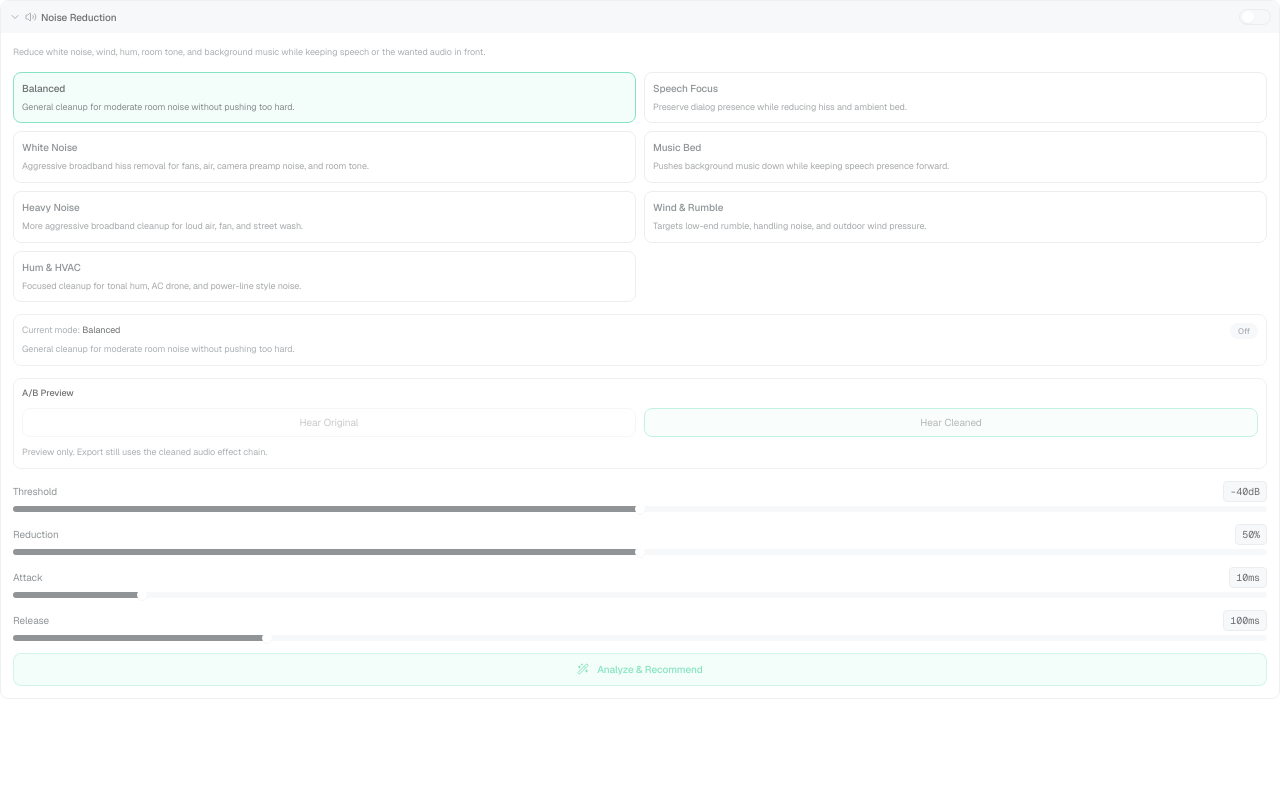
Test case: NoiseReductionSection persistence › shows an explicit apply action before saving analyzed recommendations
What coordinates should you click on to do the following:
click the button "Analyze & Recommend"
I would click on:
 (640, 669)
Its box is [13,653,1267,686].
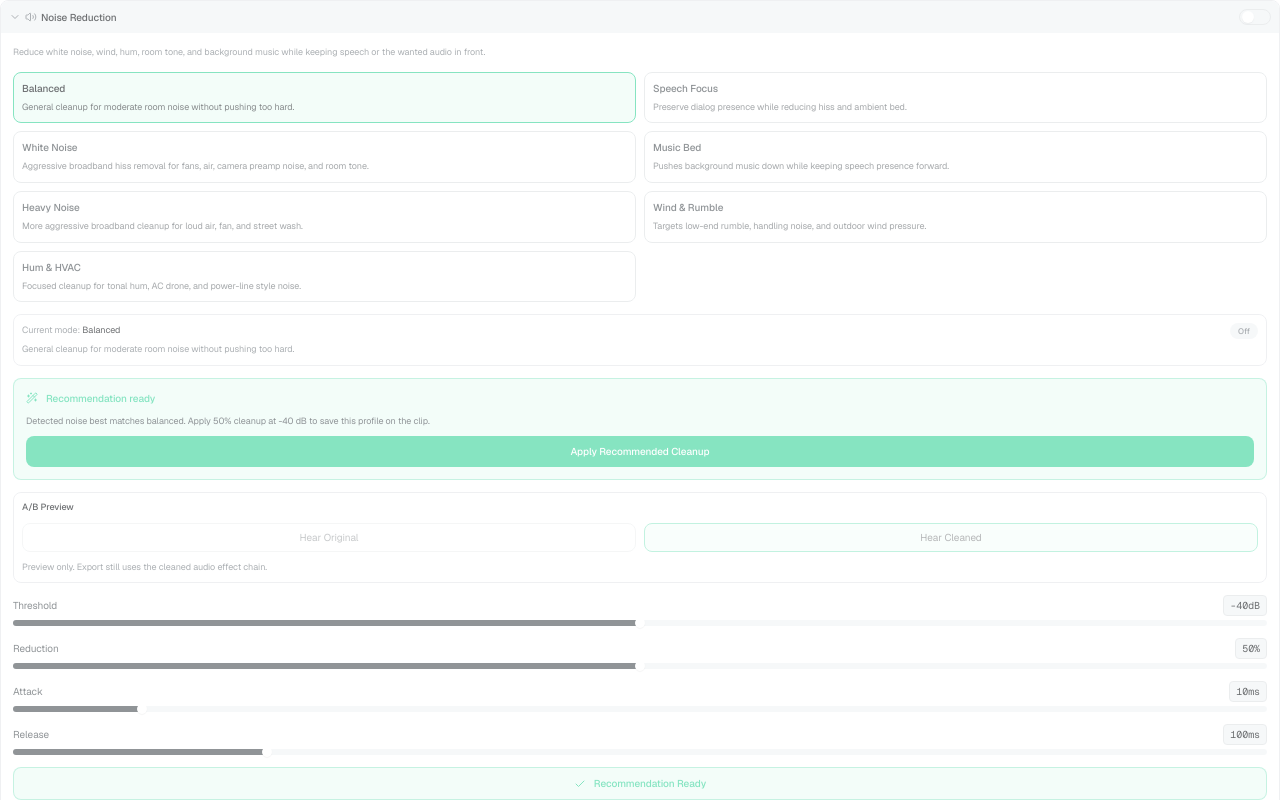
Check: the text "Recommendation ready" is shown, box [46,392,155,405]
Check: the button "Apply Recommended Cleanup" is shown
What coordinates should you click on to do the following:
click the button "Apply Recommended Cleanup"
I would click on:
 (640, 452)
Its box is [26,436,1254,467].
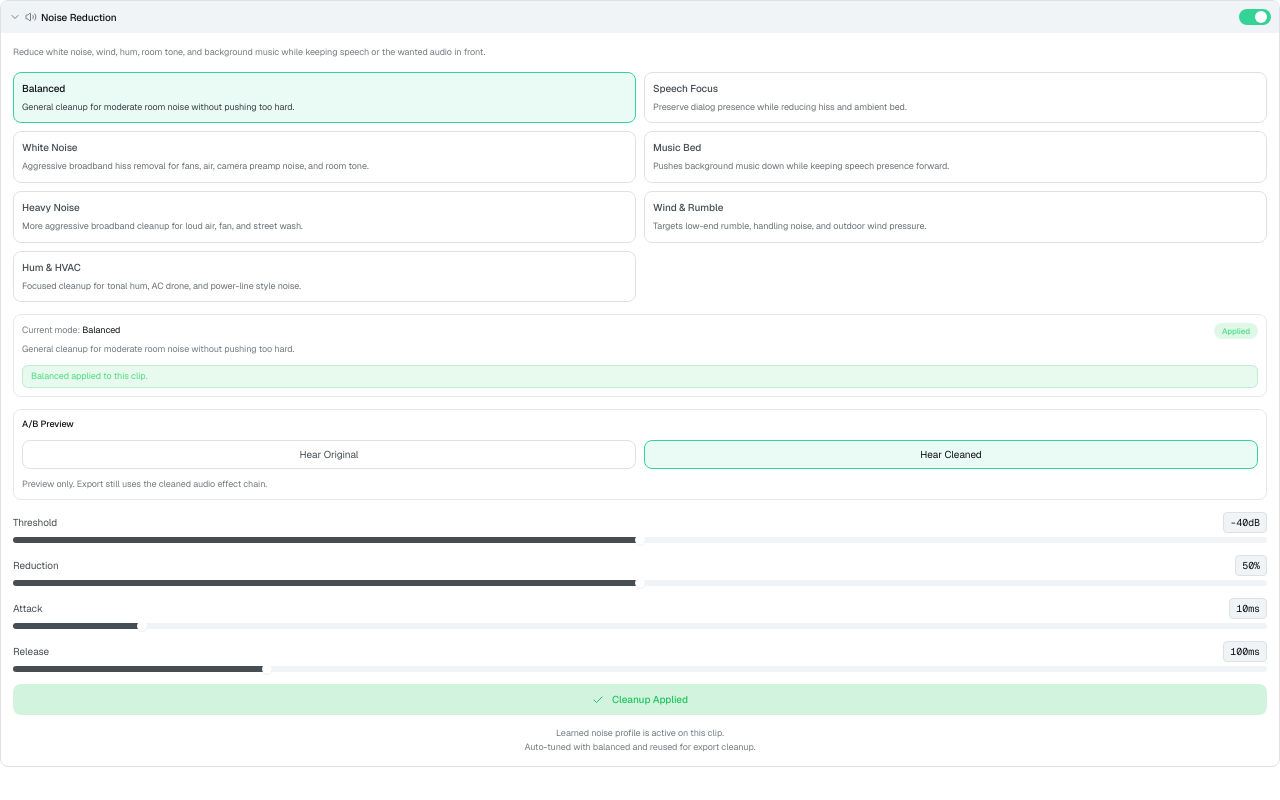
Check: the text "Balanced applied to this clip." is shown, box [31,370,147,382]
